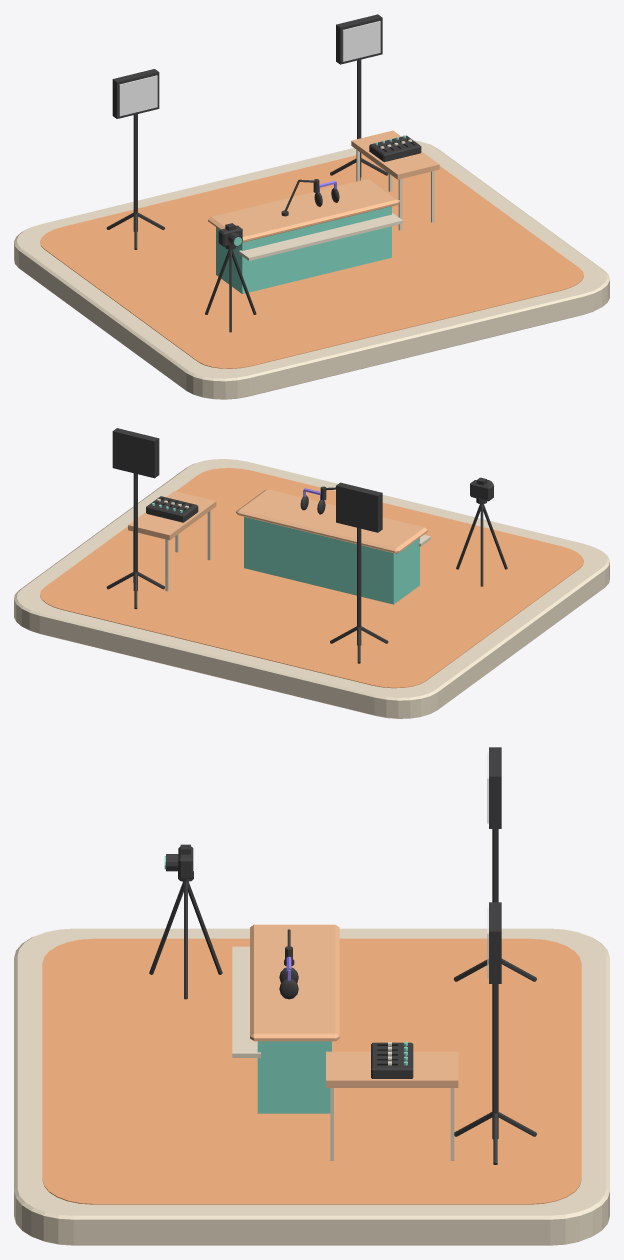
3 renders of one model, top to bottom at view 1: azimuth 30°, elevation 25°; view 2: azimuth 150°, elevation 25°; view 3: azimuth 270°, elevation 25°, orthographic. The views are drawn at different scales.
Parts seen in each view (by area): view 1: COM-02 Floor Surface, COM-01 Rounded Base Direct, Counter body, Countertop, Top, Visitor shelf, Diffuser, Diffuser.001, Audio console, Light panel, Light panel.001, Pole; view 2: COM-02 Floor Surface, COM-01 Rounded Base Direct, Counter body, Countertop, Top, Light panel.001, Light panel, Audio console, Pole, Pole.001; view 3: COM-02 Floor Surface, COM-01 Rounded Base Direct, Countertop, Counter body, Top, Visitor shelf, Audio console, Light panel, Light panel.001, Pole.001.
Boxes of the visible parts, x1,y1,x2,y2 form: COM-02 Floor Surface: (40,154,583,368); COM-01 Rounded Base Direct: (14,140,609,399); Counter body: (216,206,391,293); Countertop: (208,178,399,242); Top: (351,130,439,230); Visitor shelf: (239,213,402,260); Diffuser: (119,75,157,116); Diffuser.001: (342,21,380,61); Audio console: (369,135,421,161); Light panel: (112,69,159,118); Light panel.001: (336,14,382,64); Pole: (133,114,137,231); COM-02 Floor Surface: (40,468,583,688); COM-01 Rounded Base Direct: (14,459,609,718); Counter body: (244,517,419,604); Countertop: (236,489,427,553); Top: (128,491,216,591); Light panel.001: (112,428,159,478); Light panel: (336,482,382,532); Audio console: (146,496,198,522); Pole: (357,528,361,645); Pole.001: (133,473,137,590); COM-02 Floor Surface: (42,938,581,1204); COM-01 Rounded Base Direct: (14,928,609,1245); Countertop: (250,924,339,1041); Counter body: (257,1041,331,1113); Top: (326,1051,458,1160); Visitor shelf: (232,946,260,1057); Audio console: (371,1042,413,1078); Light panel: (489,747,501,828); Light panel.001: (489,902,501,983); Pole.001: (492,984,498,1139).
Bounding box in the file's own units: 6 × 2.53 × 5.2.
Materials: 1 (1 with a texture image).
